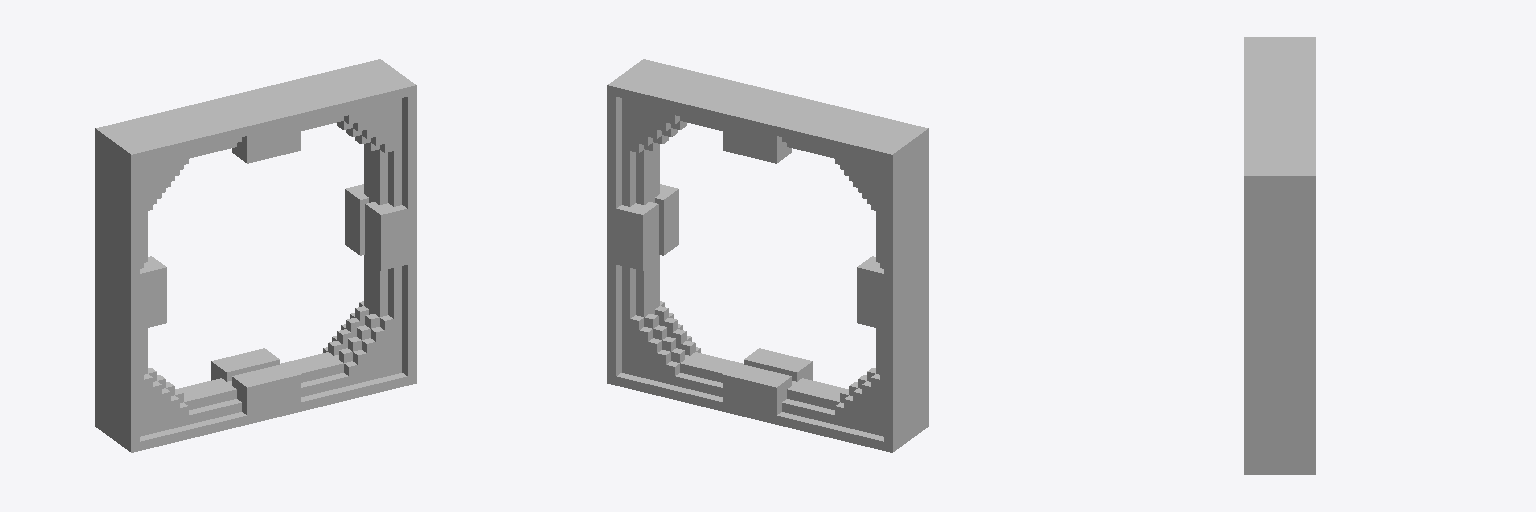
The model's file is doorframe_2x2.obj.
3 renders of one model, left to right at view 1: azimuth 30°, elevation 25°; view 2: azimuth 150°, elevation 25°; view 3: azimuth 270°, elevation 25°, orthographic.
Size of the model in its own units: 32 by 32 by 7.